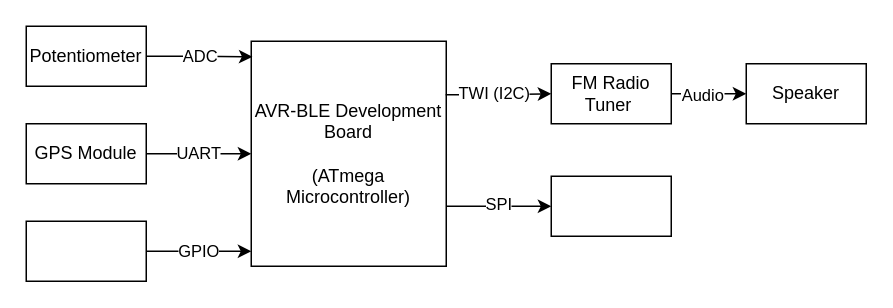
The diagram is 893 pixels wide and 308 high, and some of its shapes have lost their labels. Here are the shapes that lost their labels. From the top down, the centre of each, then its label:
At pixel 610 205: "OLED Display".
At pixel 85 250: "Button".
